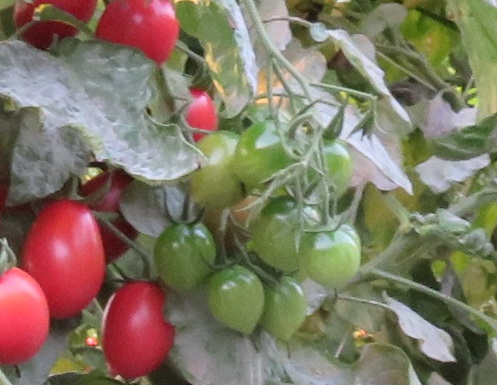green: (230, 128, 357, 183), (300, 221, 367, 292), (153, 219, 212, 297), (204, 266, 266, 337), (187, 128, 240, 207), (252, 199, 303, 268), (264, 275, 306, 343)
red: (24, 199, 104, 321), (103, 277, 173, 384), (102, 1, 185, 60), (1, 270, 48, 366), (12, 1, 98, 48), (180, 85, 218, 136)
